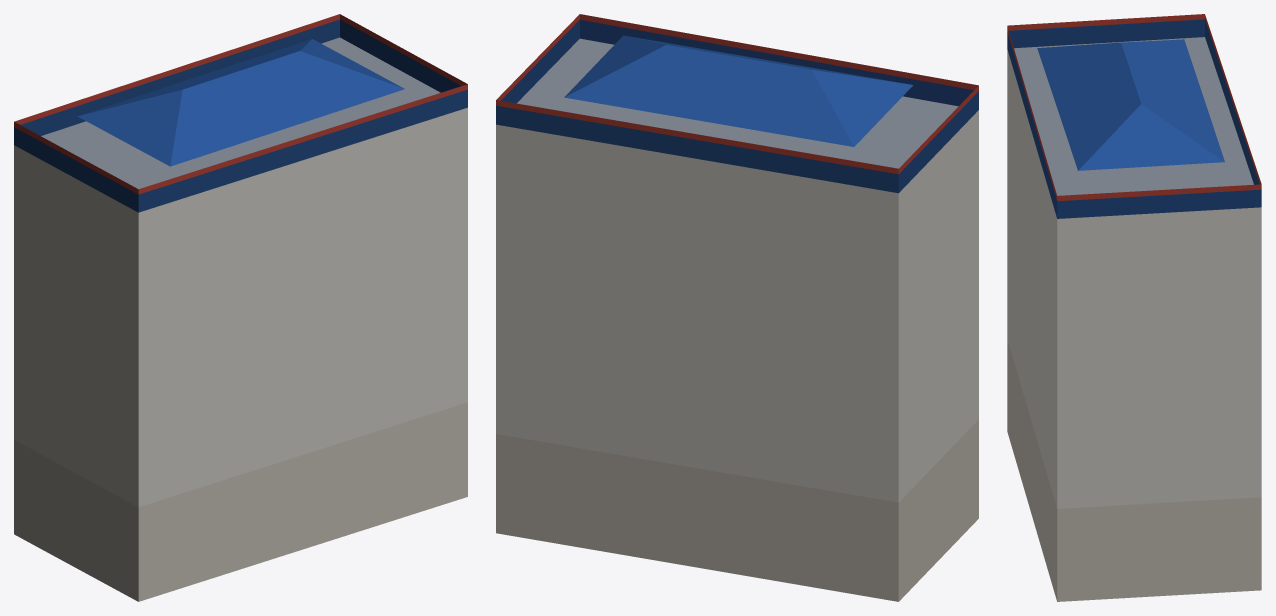
Rendered from swiss-belinn-ska-lod1.glb.
The picture shows the model from 3 angles, left to right: view 1: azimuth 30°, elevation 25°; view 2: azimuth 150°, elevation 25°; view 3: azimuth 270°, elevation 25°; orthographic projection. The views are drawn at different scales.
Parts seen in each view (by area): view 1: swiss-belinn-ska_LOD1; view 2: swiss-belinn-ska_LOD1; view 3: swiss-belinn-ska_LOD1.
Boxes of the visible parts, x1,y1,x2,y2 form: swiss-belinn-ska_LOD1: (14,14,467,601); swiss-belinn-ska_LOD1: (496,14,978,601); swiss-belinn-ska_LOD1: (1007,14,1261,601).
Size of the model in its own units: 44 by 49.4 by 26.
